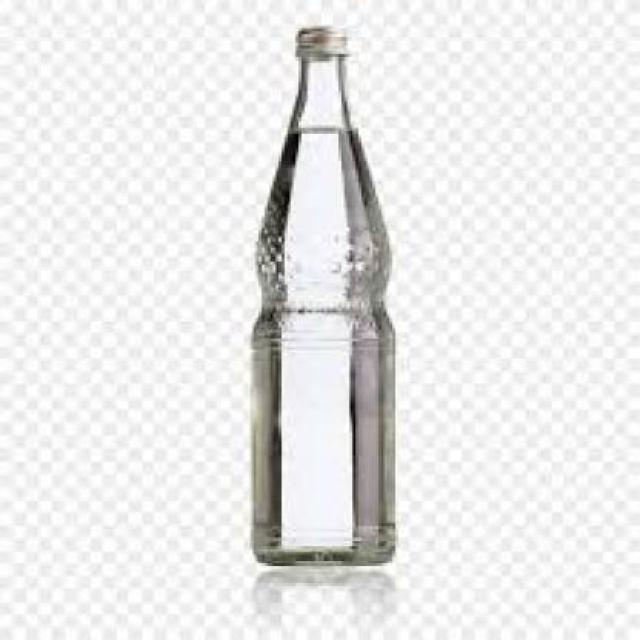kaca: (245, 52, 392, 562)
